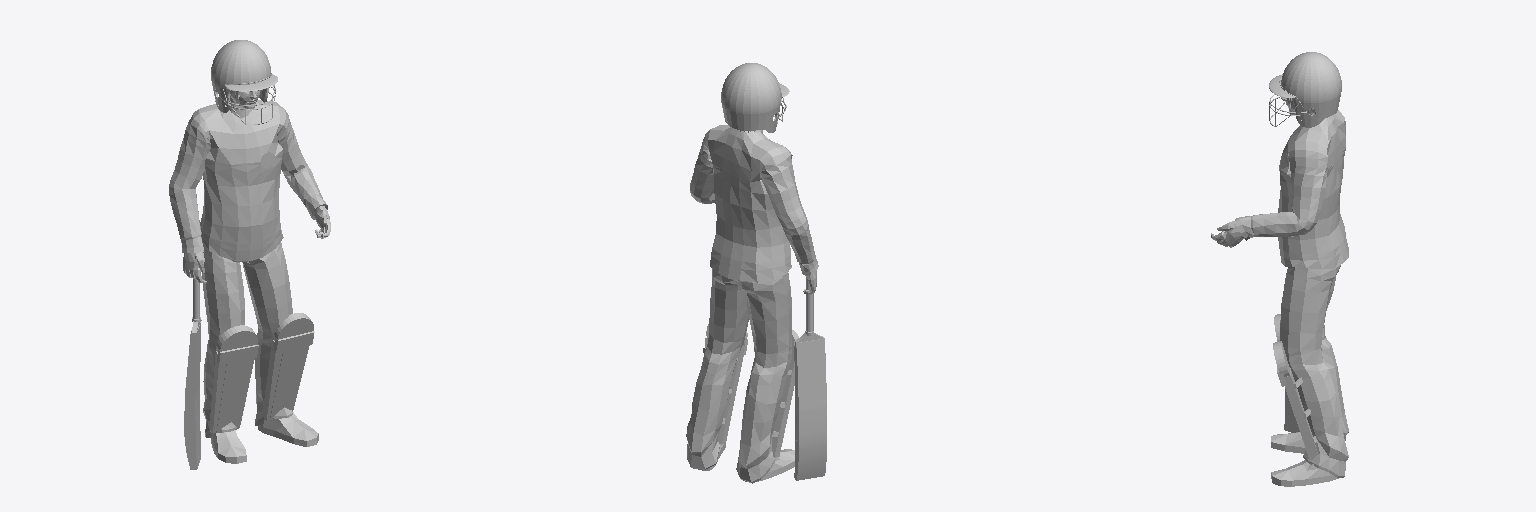
File: Batsman.obj
The picture shows the model from 3 angles: view 1: azimuth 30°, elevation 25°; view 2: azimuth 150°, elevation 25°; view 3: azimuth 270°, elevation 25°; orthographic projection.
Parts seen in each view (by area): view 1: Object011259_131, front_9_9_9, front_9_9_54, Layer0_[number redacted]_140, room_1_1_1_1_1_1_1_1_1_91, Layer0_[number redacted]_142; view 2: Object011259_131, room_1_1_1_1_1_1_1_1_1_91, back_17_17_17_17_107, Layer0_[number redacted]_142, Layer0_[number redacted]_140; view 3: Object011259_131, Layer0_[number redacted]_142, Layer0_[number redacted]_140, right_13_13_58.
Part boxes in pixels (x1,y1,x2,y2): Object011259_131: (169, 100, 330, 463); front_9_9_9: (217, 359, 249, 432); front_9_9_54: (270, 346, 304, 419); Layer0_[number redacted]_140: (213, 40, 271, 112); room_1_1_1_1_1_1_1_1_1_91: (184, 333, 200, 469); Layer0_[number redacted]_142: (211, 41, 267, 87); Object011259_131: (686, 125, 818, 483); room_1_1_1_1_1_1_1_1_1_91: (794, 338, 826, 480); back_17_17_17_17_107: (797, 339, 826, 410); Layer0_[number redacted]_142: (721, 63, 780, 129); Layer0_[number redacted]_140: (722, 64, 781, 132); Object011259_131: (1211, 110, 1348, 486); Layer0_[number redacted]_142: (1284, 52, 1341, 118); Layer0_[number redacted]_140: (1281, 52, 1341, 127); right_13_13_58: (1285, 376, 1317, 460).
Size of the model in its own units: 533 by 1568 by 488.